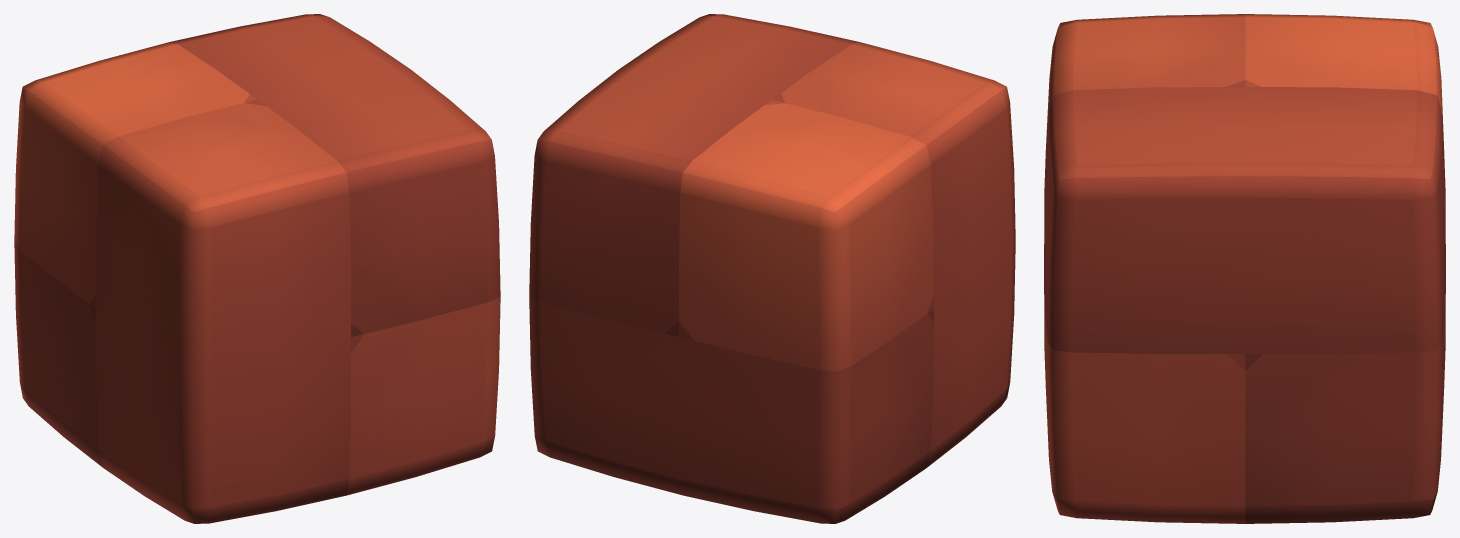
Rendered from block_stone1_1_LOD_setup.fbx.
The picture shows the model from 3 angles, left to right: view 1: azimuth 30°, elevation 25°; view 2: azimuth 150°, elevation 25°; view 3: azimuth 270°, elevation 25°; orthographic projection. The views are drawn at different scales.
Parts seen in each view (by area): view 1: block_stone1_1_LOD0; view 2: block_stone1_1_LOD0; view 3: block_stone1_1_LOD0.
Boxes of the visible parts, <box> form: block_stone1_1_LOD0: <box>14,14,500,523</box>; block_stone1_1_LOD0: <box>529,14,1015,523</box>; block_stone1_1_LOD0: <box>1044,14,1445,523</box>.
Size of what is drawn, in the model's own units: 109 by 109 by 109.
